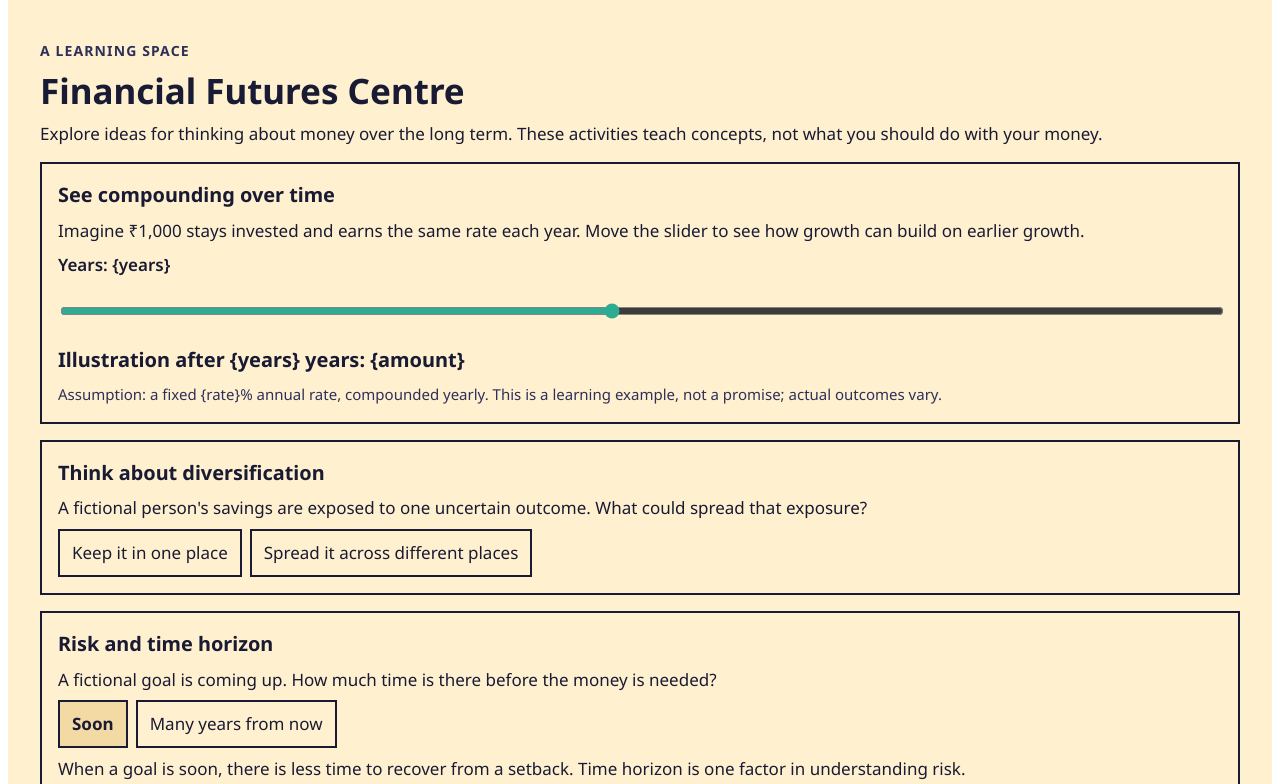
Test: CapstoneScreen › teaches diversification and time horizon without recommendations
Click the button "Spread it across different places".
click(391, 553)  # box left=250, top=529, right=532, bottom=577
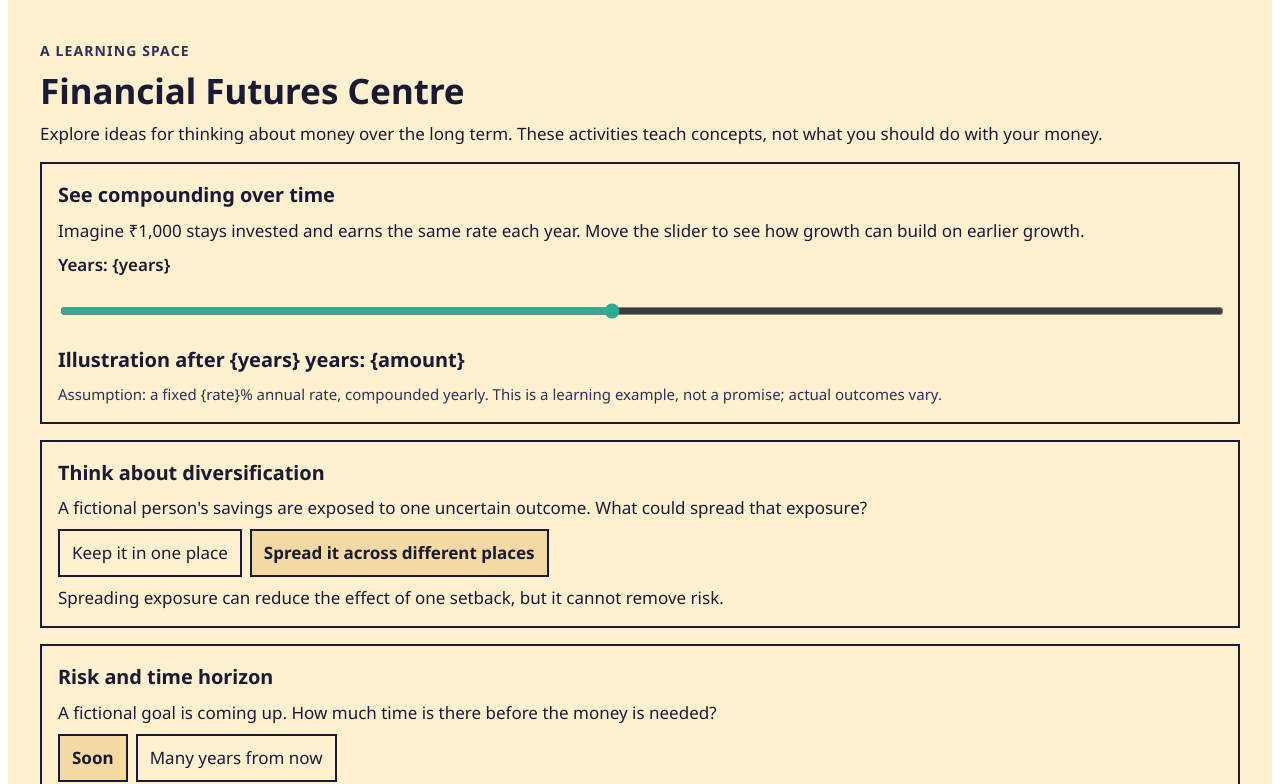
Expected: the text "cannot remove risk" is shown, left=58, top=586, right=724, bottom=609
Click the button "Many years from now".
click(236, 758)  # box left=136, top=734, right=337, bottom=782
(page scrolled)
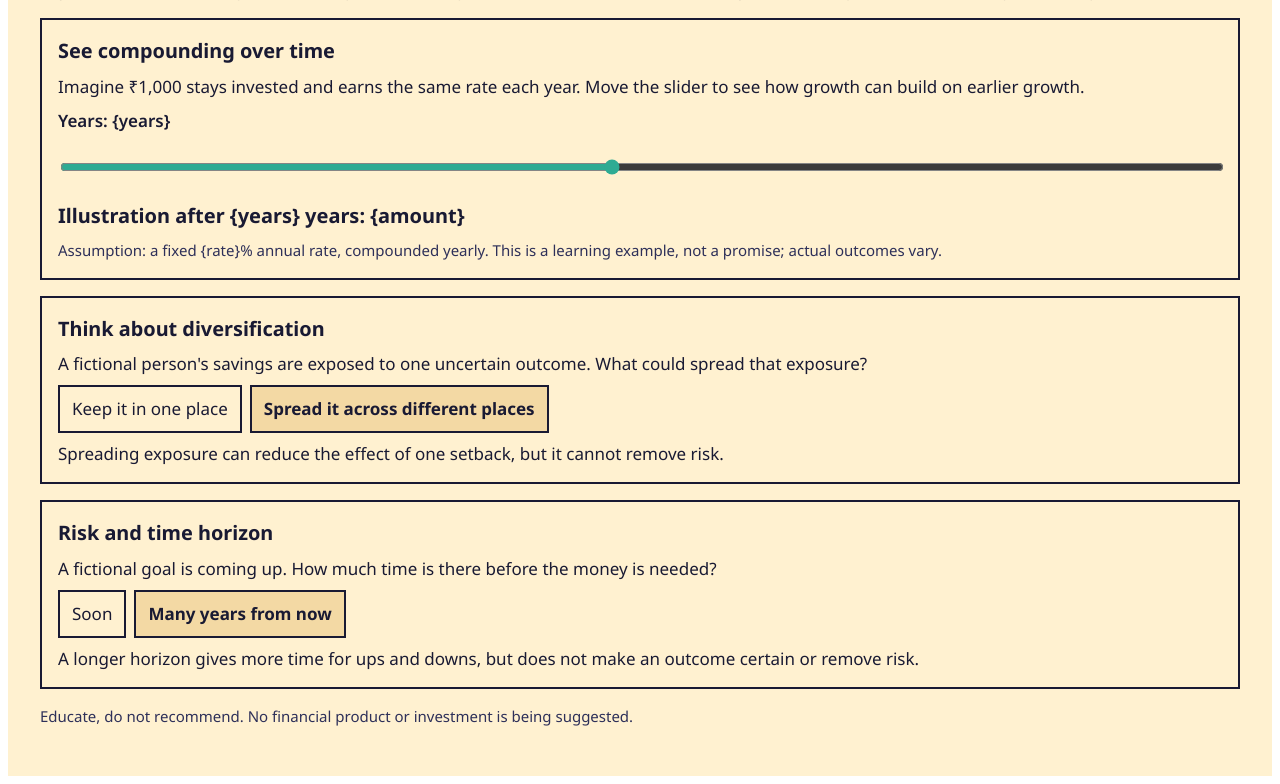
Expected: the text "does not make an outcome certain" is shown, left=58, top=647, right=919, bottom=670
